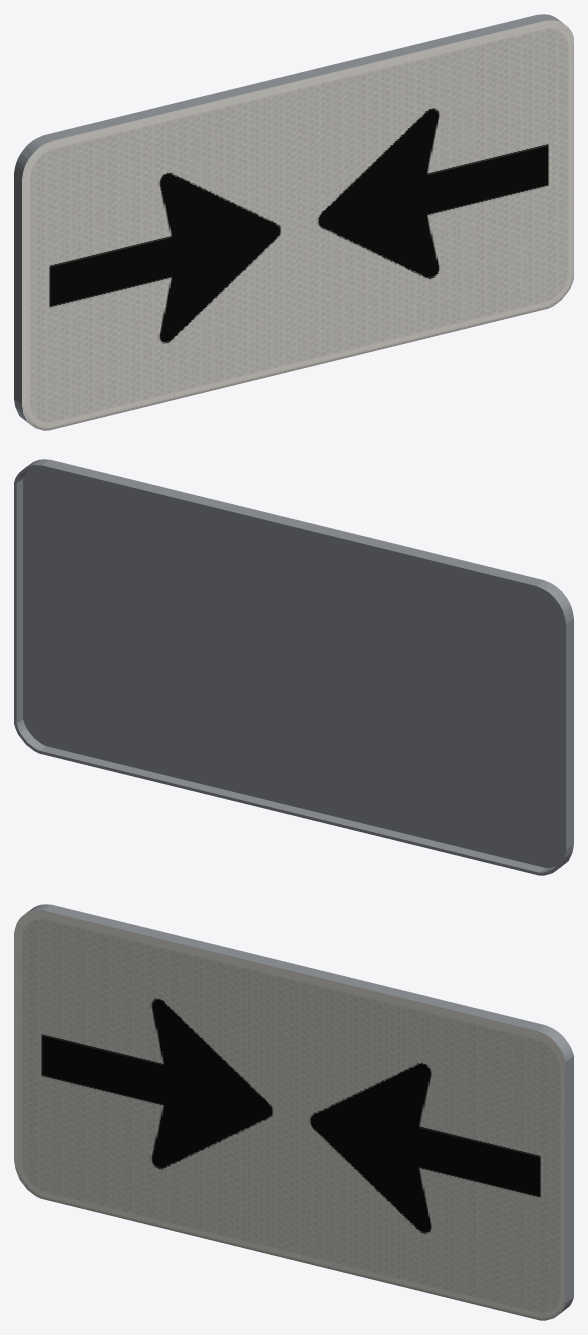
3 renders of one model, top to bottom at view 1: azimuth 30°, elevation 25°; view 2: azimuth 150°, elevation 25°; view 3: azimuth 330°, elevation 25°, orthographic.
Parts seen in each view (by area): view 1: cat_058cc3efdb62975e; view 2: cat_058cc3efdb62975e; view 3: cat_058cc3efdb62975e.
Boxes of the visible parts, x1=… form: cat_058cc3efdb62975e: x1=14, y1=14, x2=573, y2=430; cat_058cc3efdb62975e: x1=14, y1=459, x2=573, y2=875; cat_058cc3efdb62975e: x1=14, y1=904, x2=573, y2=1320.
Bounding box in the file's own units: 0.6 × 0.015 × 0.3.
2 materials, 1 textured.
